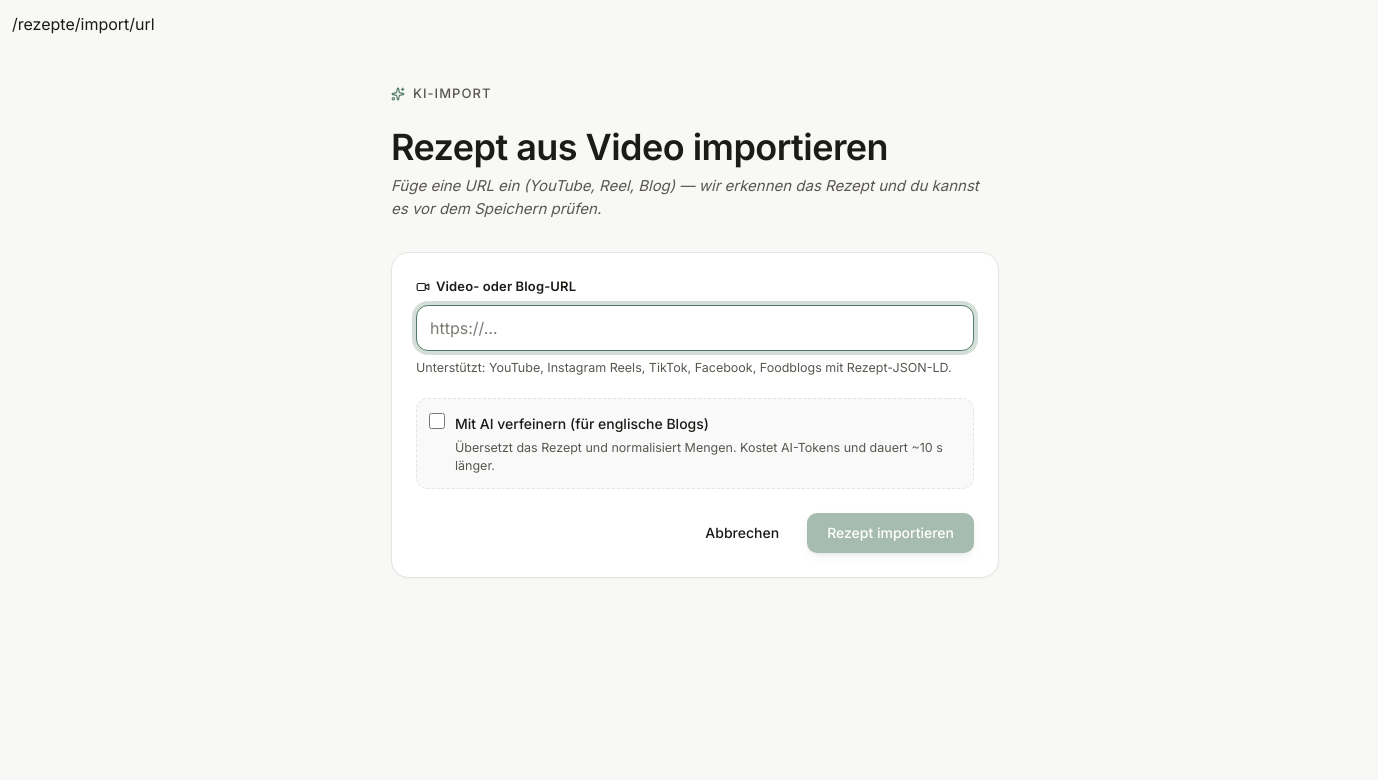
Scenario: <ImportUrlPage /> › BUG-013 cache-hit: renders banner with both CTAs and does NOT auto-navigate
Type "https://example.com/r" into the field labelled "Video- oder Blog-URL" at (695, 328), box [416,305,974,351]
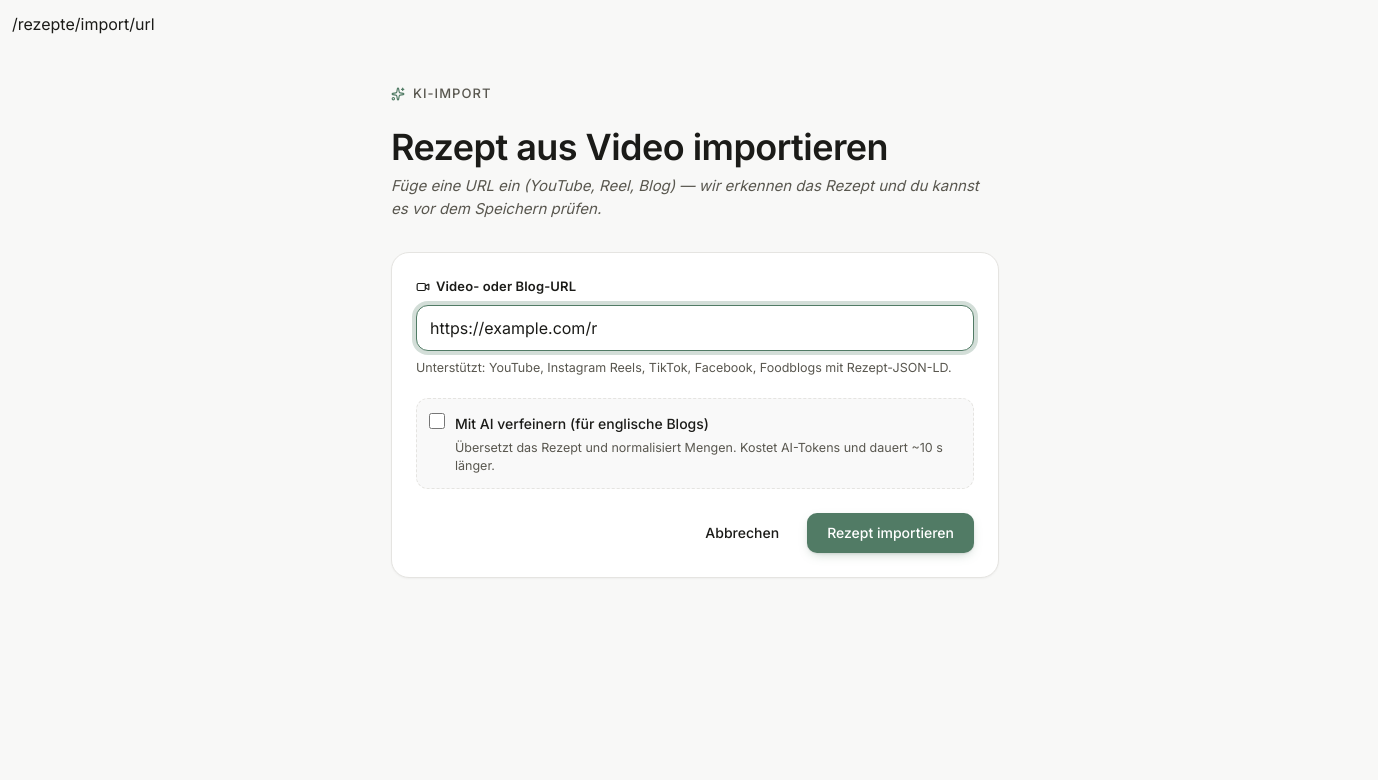
Click the button "Rezept importieren" at (891, 533), box [807,513,974,553]
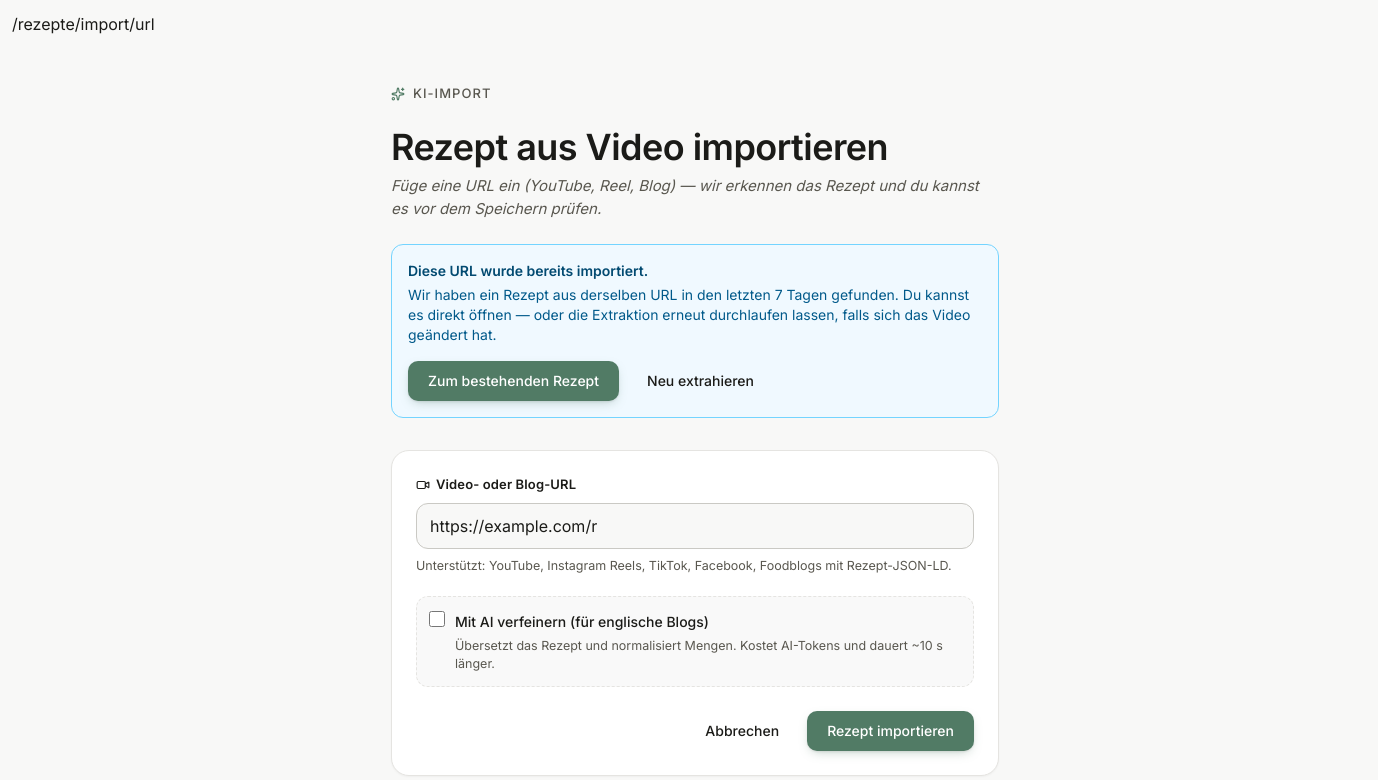
expect the message with test id "import-url-cache-banner" shows "bereits importiert": met, box [408,262,648,279]
expect the button "Zum bestehenden Rezept" is shown: met, box [408,361,619,401]
expect the button "Neu extrahieren" is shown: met, box [627,361,774,401]
